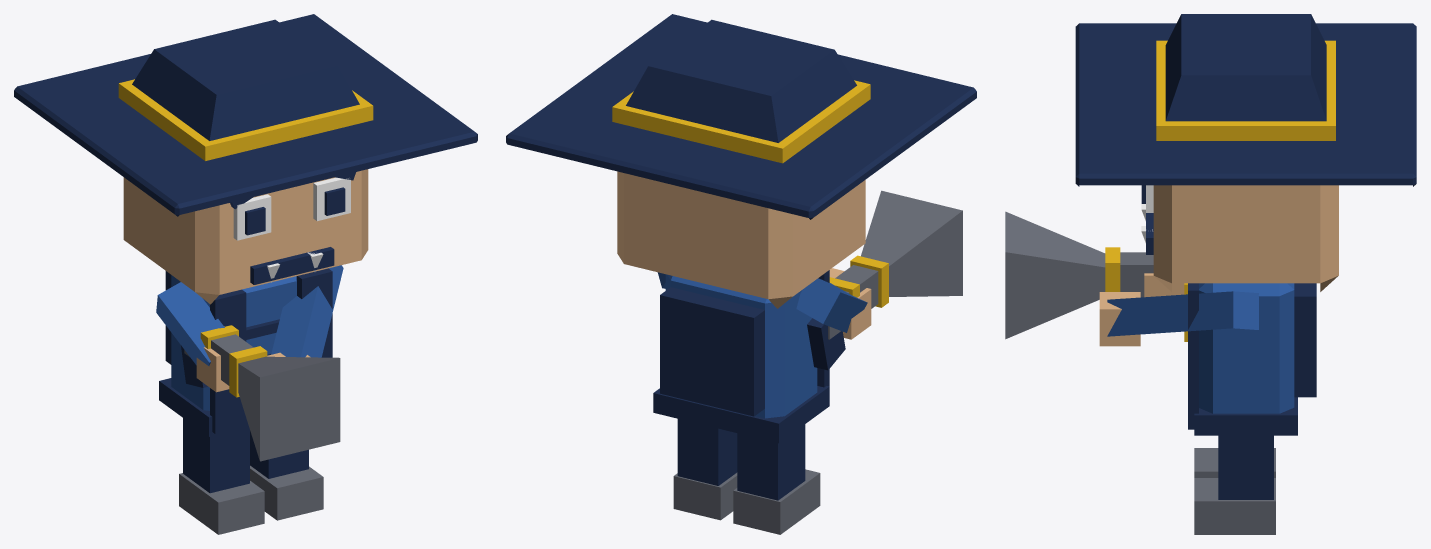
Rendered from shotgunner_r13.glb.
3 renders of one model, left to right at view 1: azimuth 30°, elevation 25°; view 2: azimuth 150°, elevation 25°; view 3: azimuth 270°, elevation 25°, orthographic. The views are drawn at different scales.
Visible parts, largest first — view 1: shotgunner_r13_mesh; view 2: shotgunner_r13_mesh; view 3: shotgunner_r13_mesh.
Boxes of the visible parts, left/top/right/bottom form: shotgunner_r13_mesh: left=14, top=14, right=477, bottom=534; shotgunner_r13_mesh: left=506, top=14, right=976, bottom=534; shotgunner_r13_mesh: left=1005, top=14, right=1416, bottom=534.
Bounding box in the file's own units: 1.07 × 1.5 × 1.21.
1 material, 1 textured.
